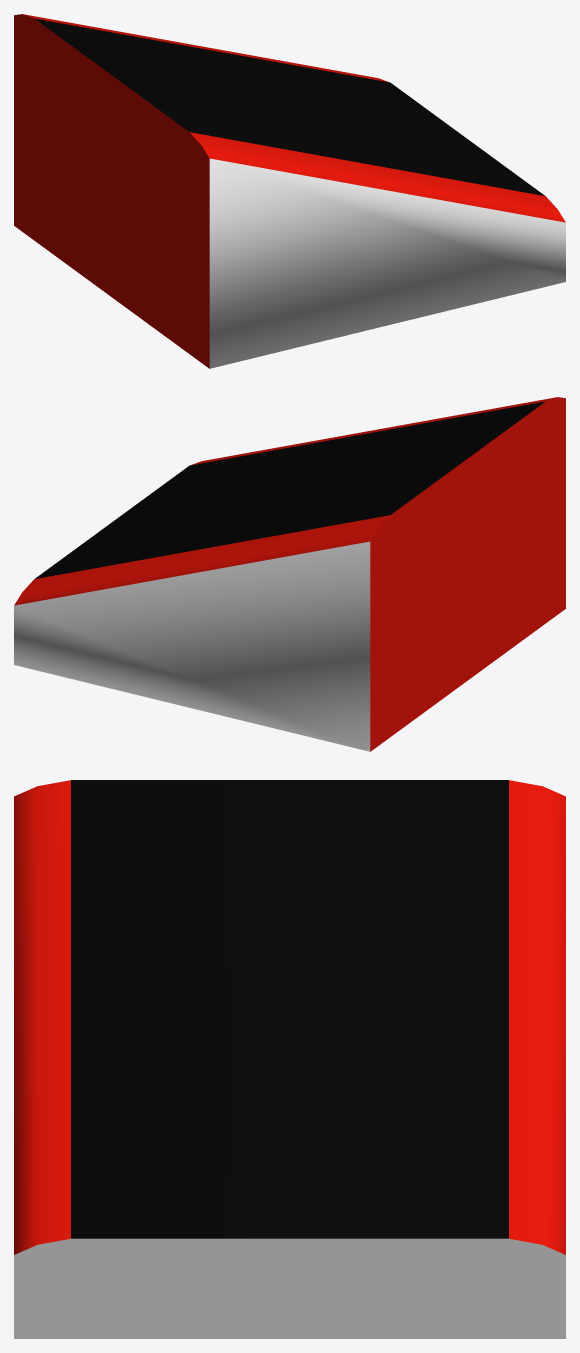
File: conveyor ramp.fbx
3 renders of one model, top to bottom at view 1: azimuth 30°, elevation 25°; view 2: azimuth 150°, elevation 25°; view 3: azimuth 270°, elevation 25°, orthographic. The views are drawn at different scales.
Visible parts, largest first — view 1: Cube.001; view 2: Cube.001; view 3: Cube.001.
Part boxes in pixels (x1,y1,x2,y2): Cube.001: (14, 14, 565, 368); Cube.001: (14, 397, 565, 751); Cube.001: (14, 780, 565, 1338).
Bounding box in the file's own units: 300 × 316 × 188.
